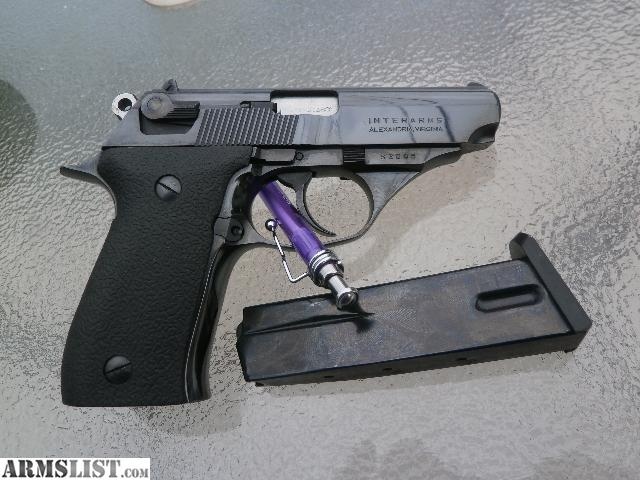gun: (51, 75, 503, 415)
